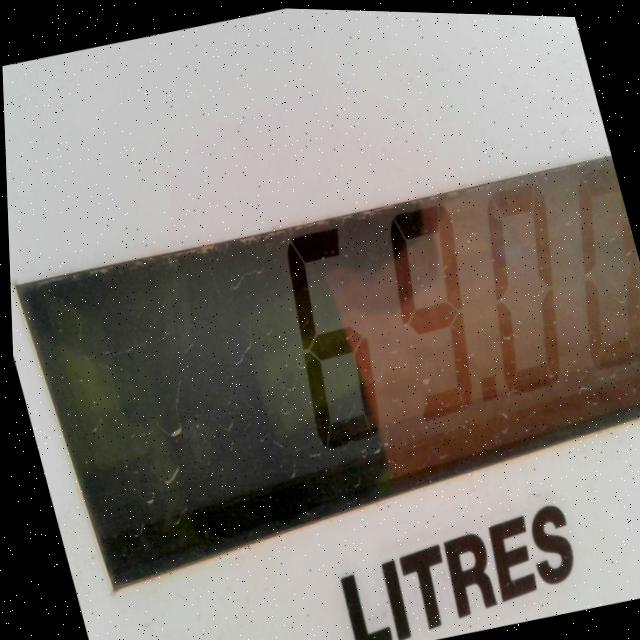.: (461, 355, 510, 419)
0: (457, 172, 594, 413), (546, 158, 640, 392)
6: (255, 207, 403, 461)
9: (358, 186, 502, 437)
